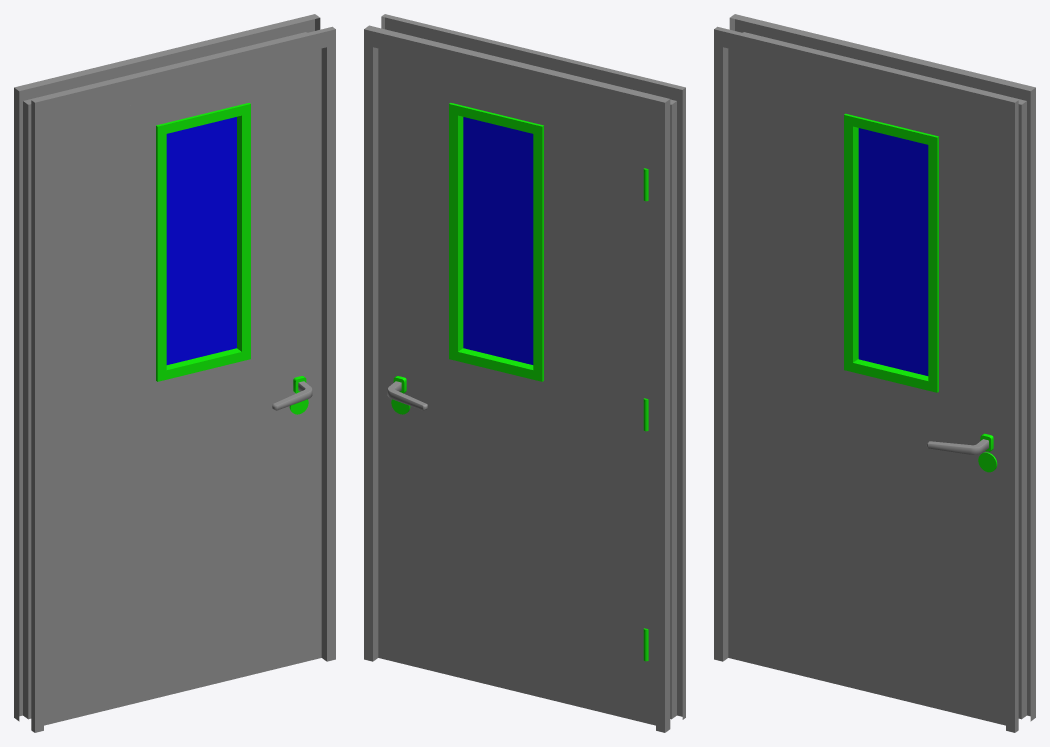
File: SM_Door_1_d.FBX
3 views of the same model, side by side, from view 1: azimuth 30°, elevation 25°; view 2: azimuth 150°, elevation 25°; view 3: azimuth 330°, elevation 25° (orthographic).
Visible parts, largest first — view 1: Door_1_d, Door_1_d_frame; view 2: Door_1_d, Door_1_d_frame; view 3: Door_1_d, Door_1_d_frame, Door_1_d_handle.
Boxes of the visible parts, box(x1,y1,x2,y2) form: Door_1_d: box(53, 62, 309, 722); Door_1_d_frame: box(14, 14, 335, 732); Door_1_d: box(390, 62, 648, 722); Door_1_d_frame: box(364, 14, 685, 732); Door_1_d: box(743, 63, 999, 723); Door_1_d_frame: box(714, 14, 1035, 732); Door_1_d_handle: box(926, 439, 988, 454).
Bounding box in the file's own units: 100 × 28.22 × 200.
